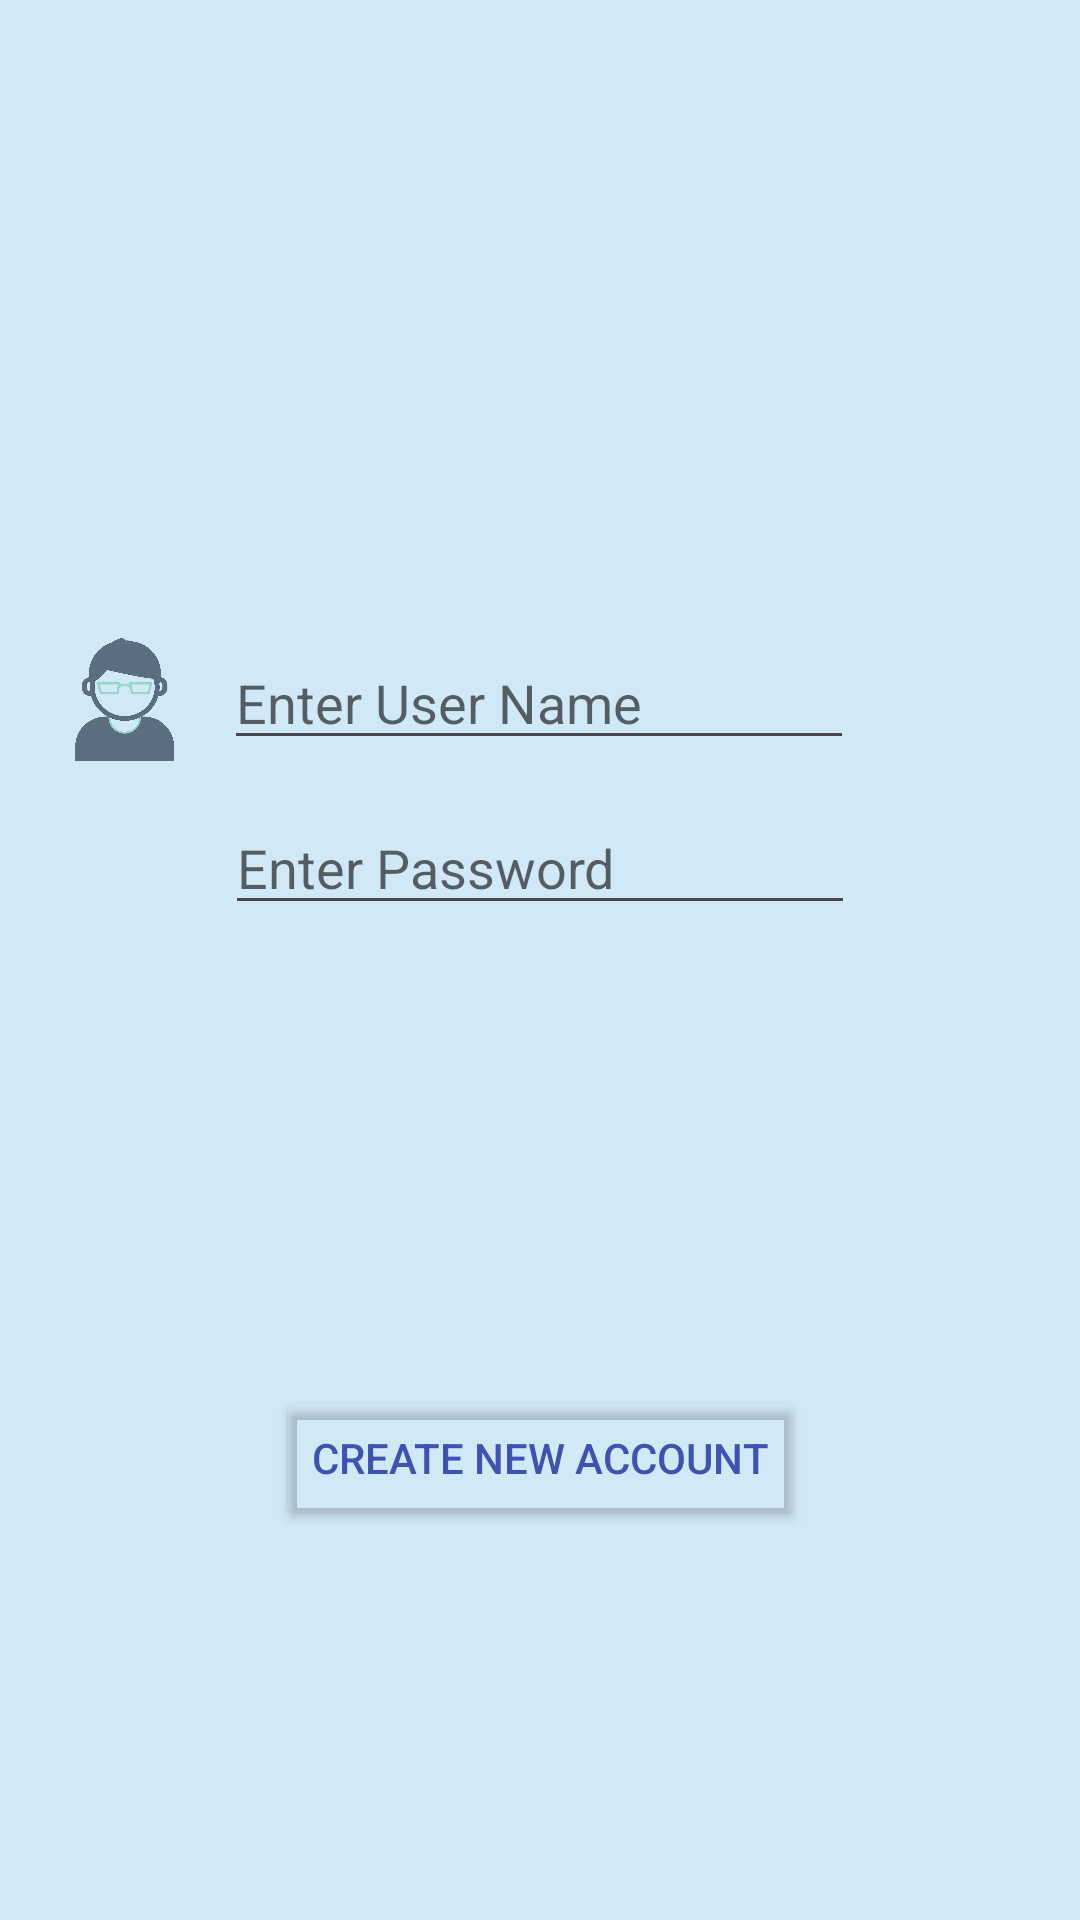

Point at icon controls on the screen. Image size 1080px x 1920px, points as [x,y].
usericon: [124,699]
